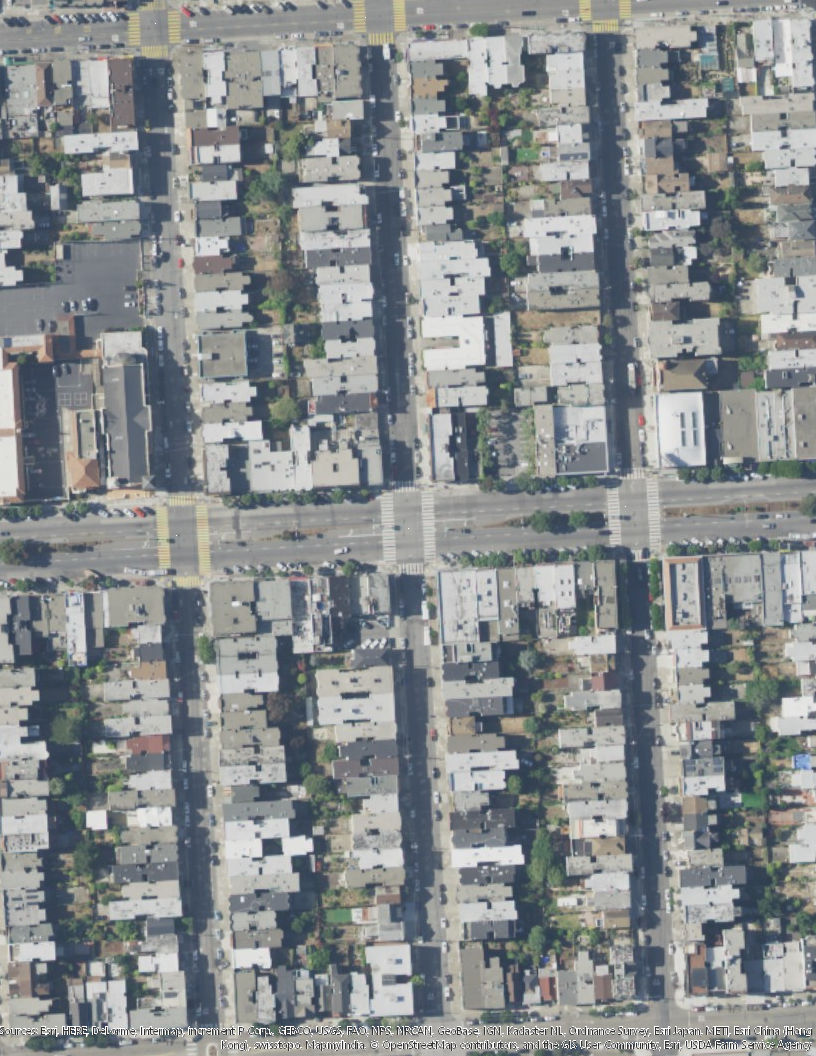zebracross: (380, 492, 398, 562), (420, 493, 438, 562), (645, 477, 662, 548), (606, 482, 625, 545), (194, 506, 211, 576), (154, 508, 173, 568), (124, 11, 144, 46), (391, 1, 408, 31), (167, 13, 183, 43), (352, 1, 367, 33), (364, 31, 394, 46), (165, 492, 194, 507), (591, 19, 621, 33), (393, 479, 420, 493), (175, 575, 200, 590), (400, 561, 425, 576), (142, 45, 167, 59), (577, 1, 592, 21), (616, 1, 633, 18), (620, 468, 647, 478), (136, 1, 167, 9), (187, 1038, 197, 1056)
